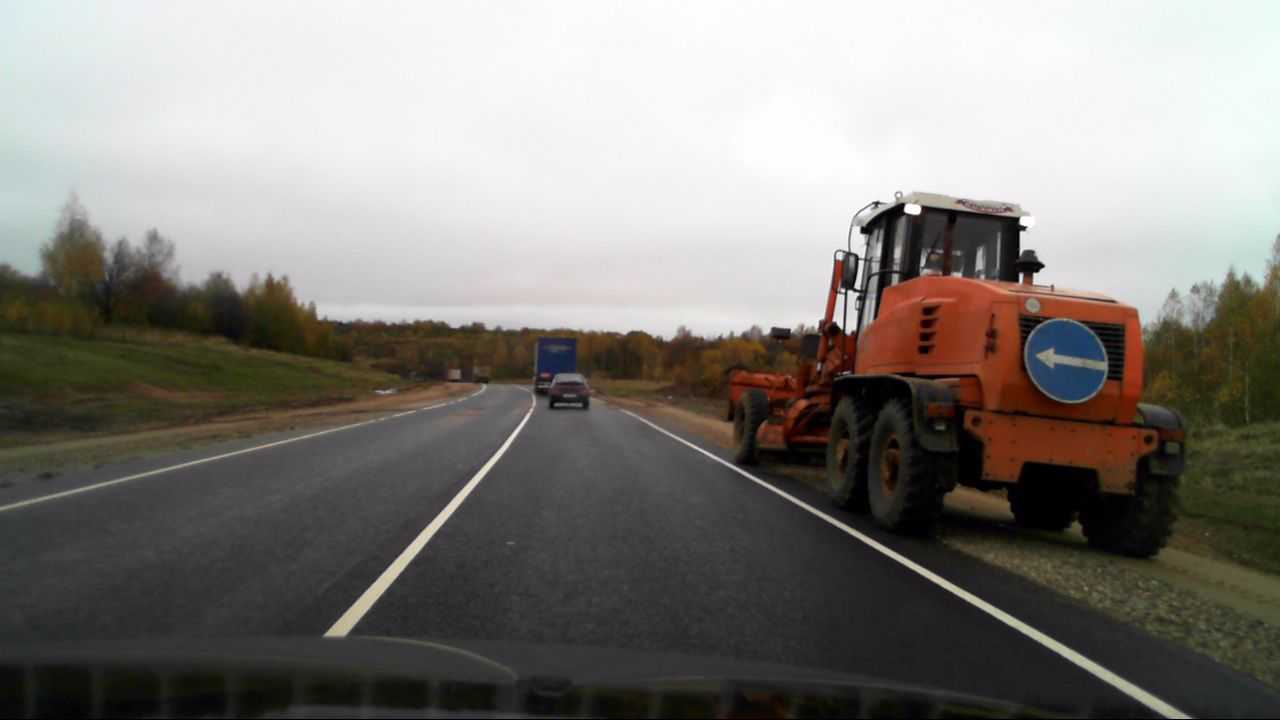Turn Left: (1024, 318, 1108, 404)
